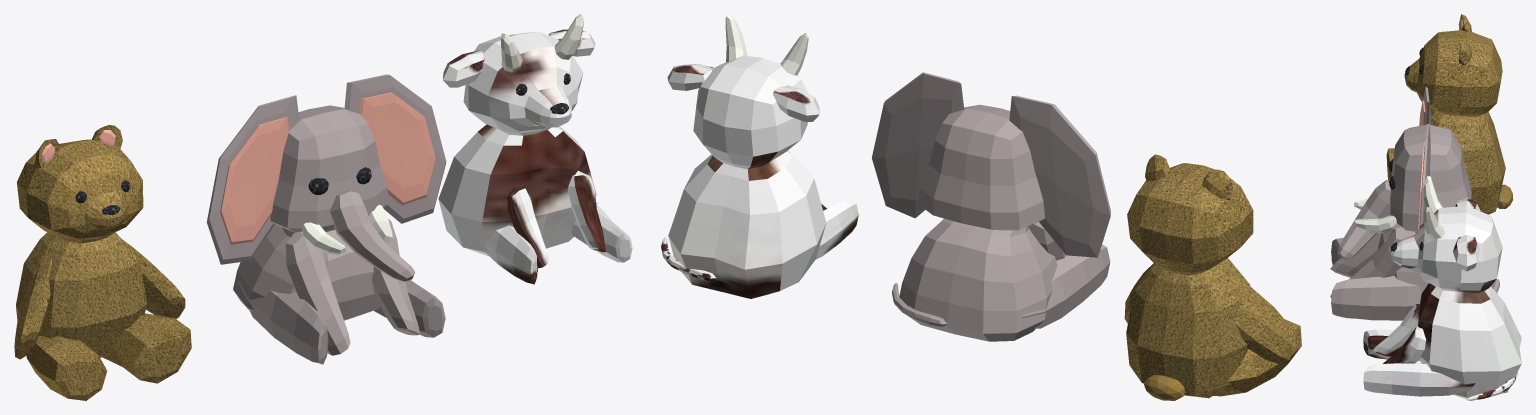
Rendered from plush2.glb.
The picture shows the model from 3 angles, left to right: view 1: azimuth 30°, elevation 25°; view 2: azimuth 150°, elevation 25°; view 3: azimuth 270°, elevation 25°; orthographic projection. The views are drawn at different scales.
Visible parts, largest first — view 1: Cube.004, Cube.002, Cube.003; view 2: Cube.004, Cube.003, Cube.002; view 3: Cube.003, Cube.004, Cube.002.
Boxes of the visible parts, left/top/right/bottom form: Cube.004: left=206, top=74, right=446, bottom=364; Cube.002: left=14, top=125, right=191, bottom=400; Cube.003: left=438, top=14, right=632, bottom=284; Cube.004: left=872, top=72, right=1110, bottom=341; Cube.003: left=661, top=14, right=858, bottom=298; Cube.002: left=1124, top=154, right=1301, bottom=400; Cube.003: left=1363, top=176, right=1521, bottom=400; Cube.004: left=1330, top=87, right=1499, bottom=320; Cube.002: left=1386, top=14, right=1513, bottom=214.
Size of the model in its own units: 1.38 by 0.5352 by 0.4605.
Materials: 6 (3 with a texture image).
